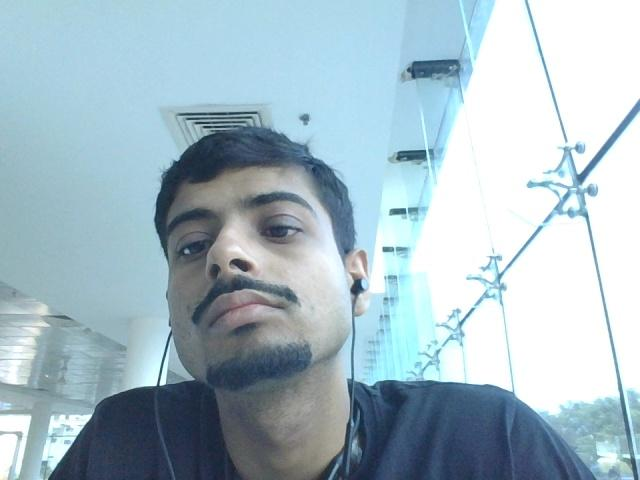confident: (146, 133, 405, 397)
